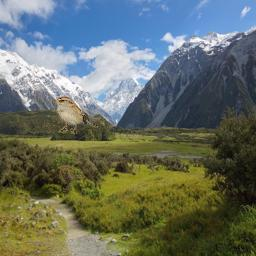Sparrow: (52, 96, 98, 134)
